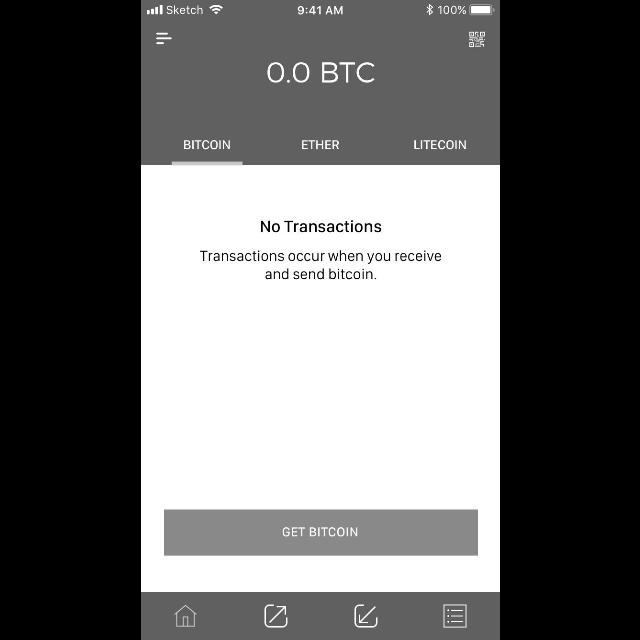icon: (264, 604, 286, 628), (354, 604, 376, 628), (444, 604, 466, 628), (174, 605, 196, 627), (156, 33, 170, 45)
image: (469, 32, 485, 48)
text: (199, 250, 441, 280), (268, 62, 374, 84), (261, 222, 381, 232), (414, 140, 466, 150), (183, 140, 230, 150), (302, 140, 338, 150)
textbutton: (163, 510, 477, 556)
uppertaskbar: (140, 1, 500, 16)
